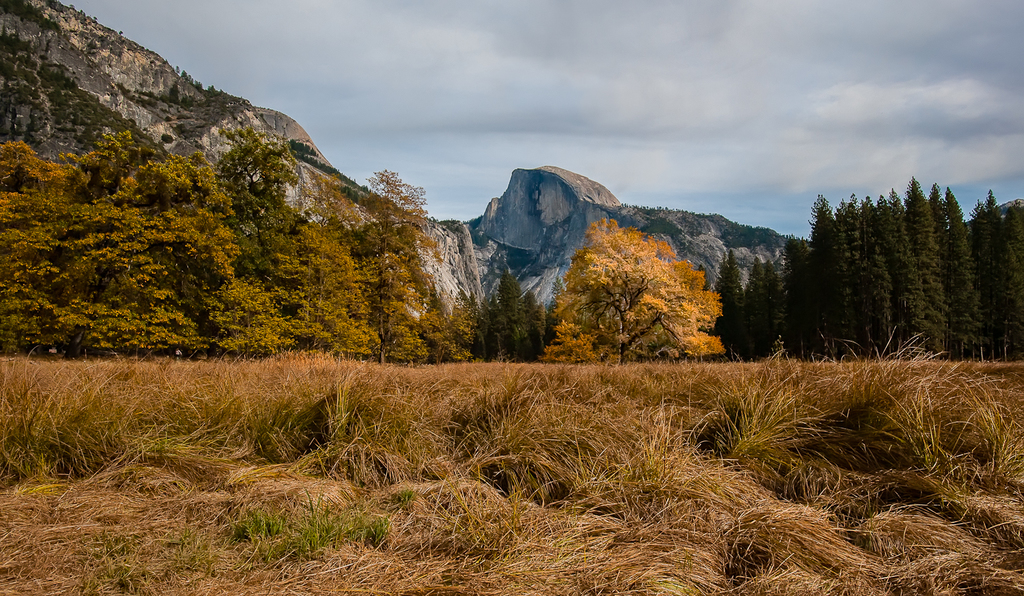Tree: (0, 102, 1023, 367), (9, 118, 291, 355)
